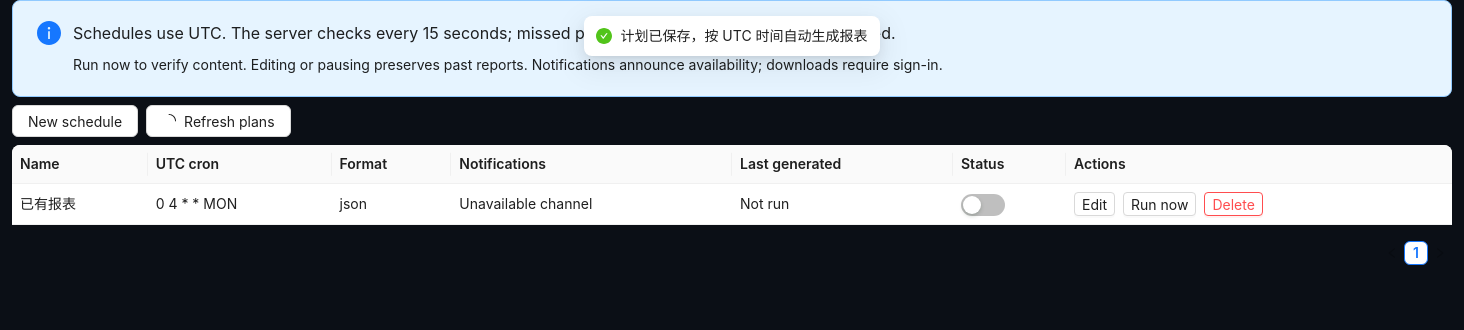
Test: sends the listed version when deleting and retains the plan after a conflict
Click the button "Delete" at point(1234, 204), box [1204,192,1263,216]
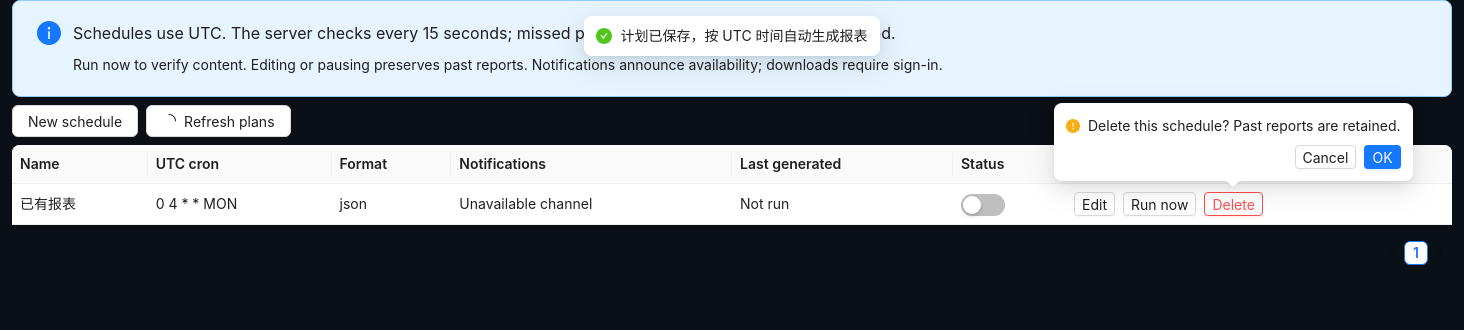
Click the button "OK" at point(1382, 157), box [1364,145,1400,169]
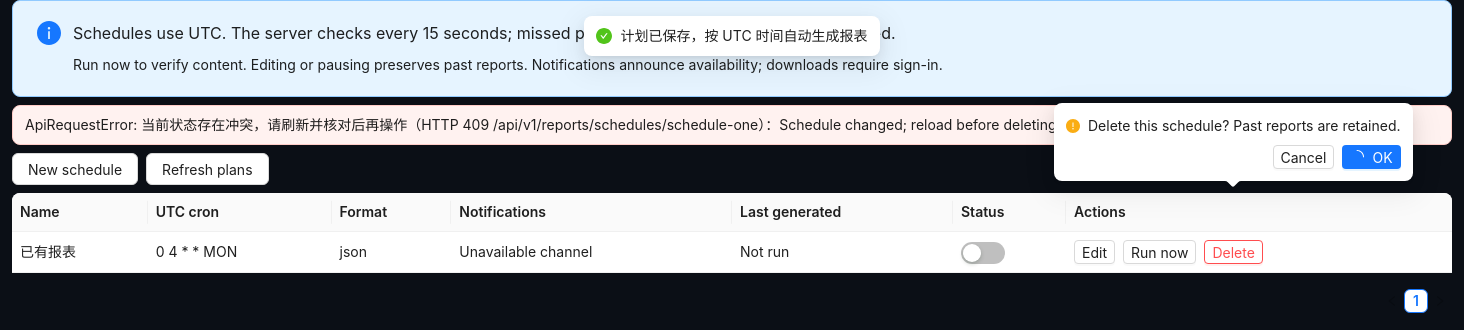
Check: the text "已有报表" is shown, box [12,232,148,273]
Check: the text "reload before deleting" is shown, box [25,116,1056,133]
